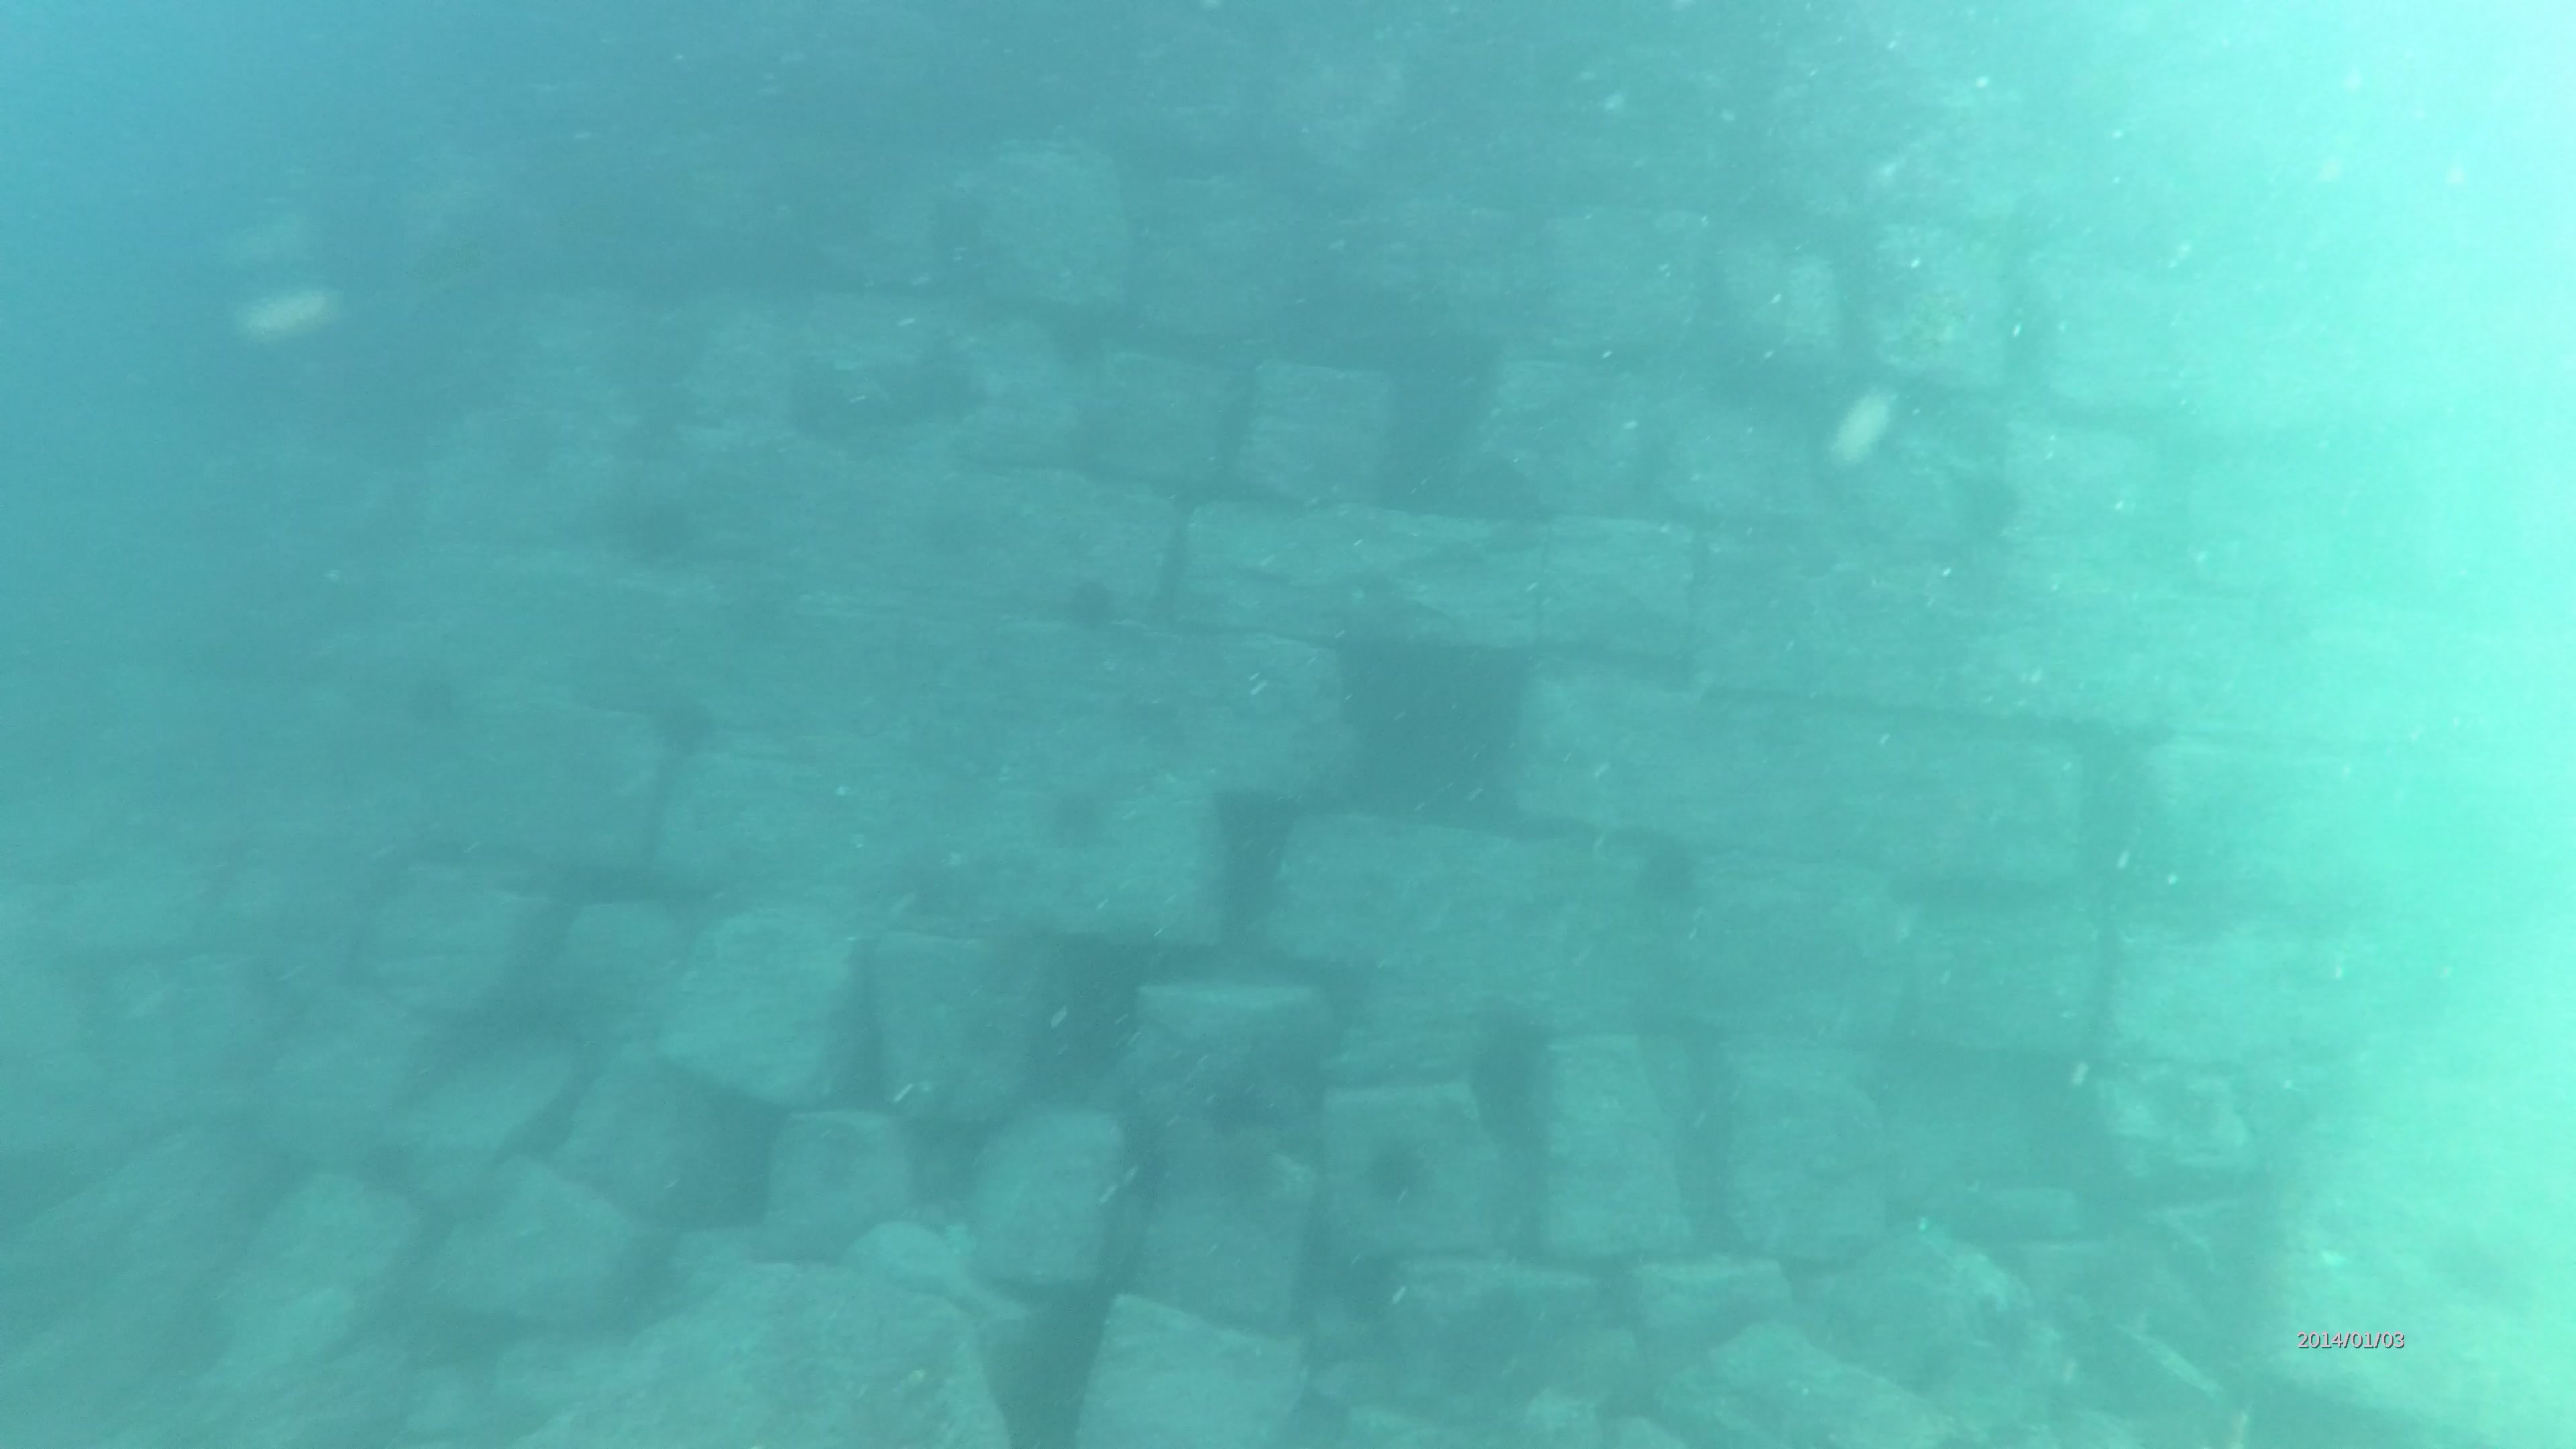echinus: (633, 492, 711, 566), (1364, 1132, 1440, 1205), (1640, 828, 1704, 911), (1072, 575, 1131, 644)
